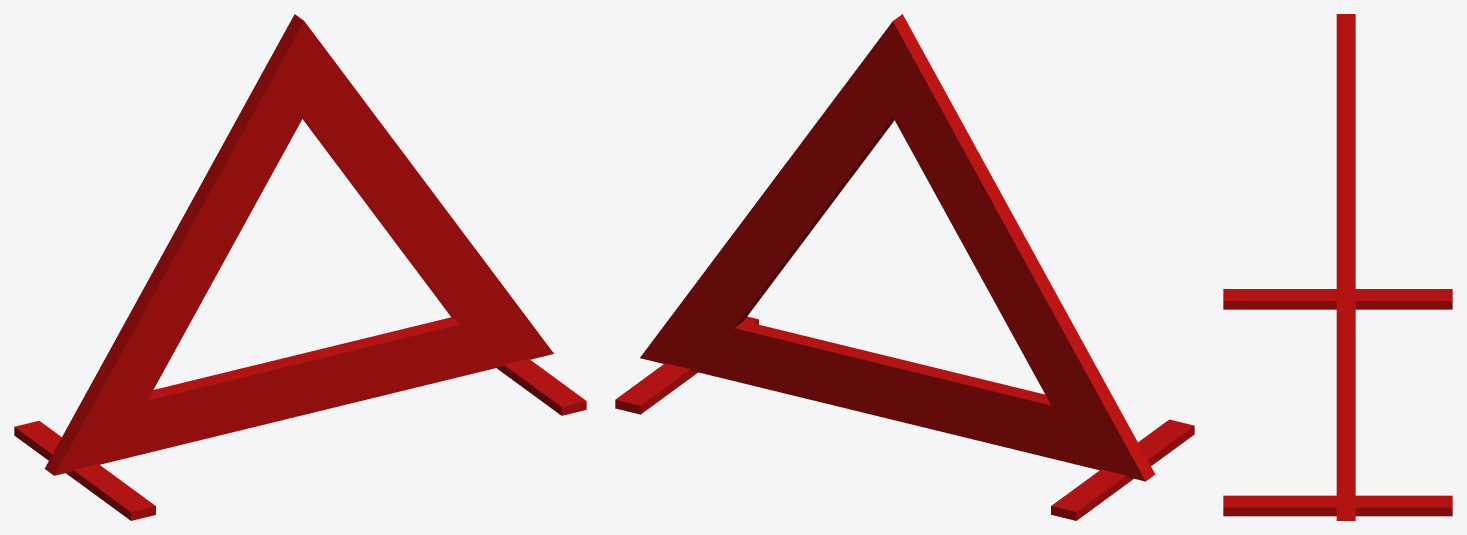
File: Varseltrekant.FBX
3 renders of one model, left to right at view 1: azimuth 30°, elevation 25°; view 2: azimuth 150°, elevation 25°; view 3: azimuth 270°, elevation 25°, orthographic. The views are drawn at different scales.
Visible parts, largest first — view 1: Varseltrekant; view 2: Varseltrekant; view 3: Varseltrekant.
Part boxes in pixels (<box>): Varseltrekant: <box>14,14,586,520</box>; Varseltrekant: <box>615,14,1194,520</box>; Varseltrekant: <box>1223,14,1452,520</box>.
Size of the model in its own units: 30 by 23.01 by 12.14.
